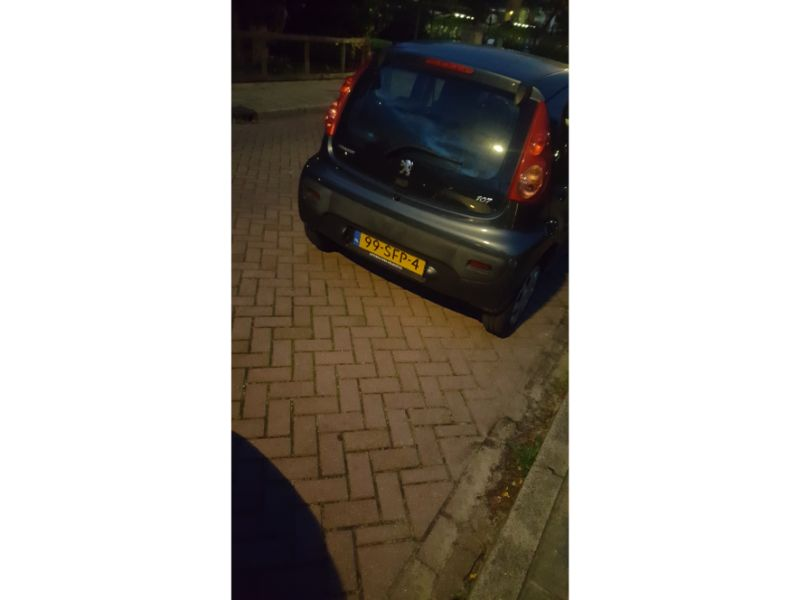kenteken: (349, 229, 440, 282)
